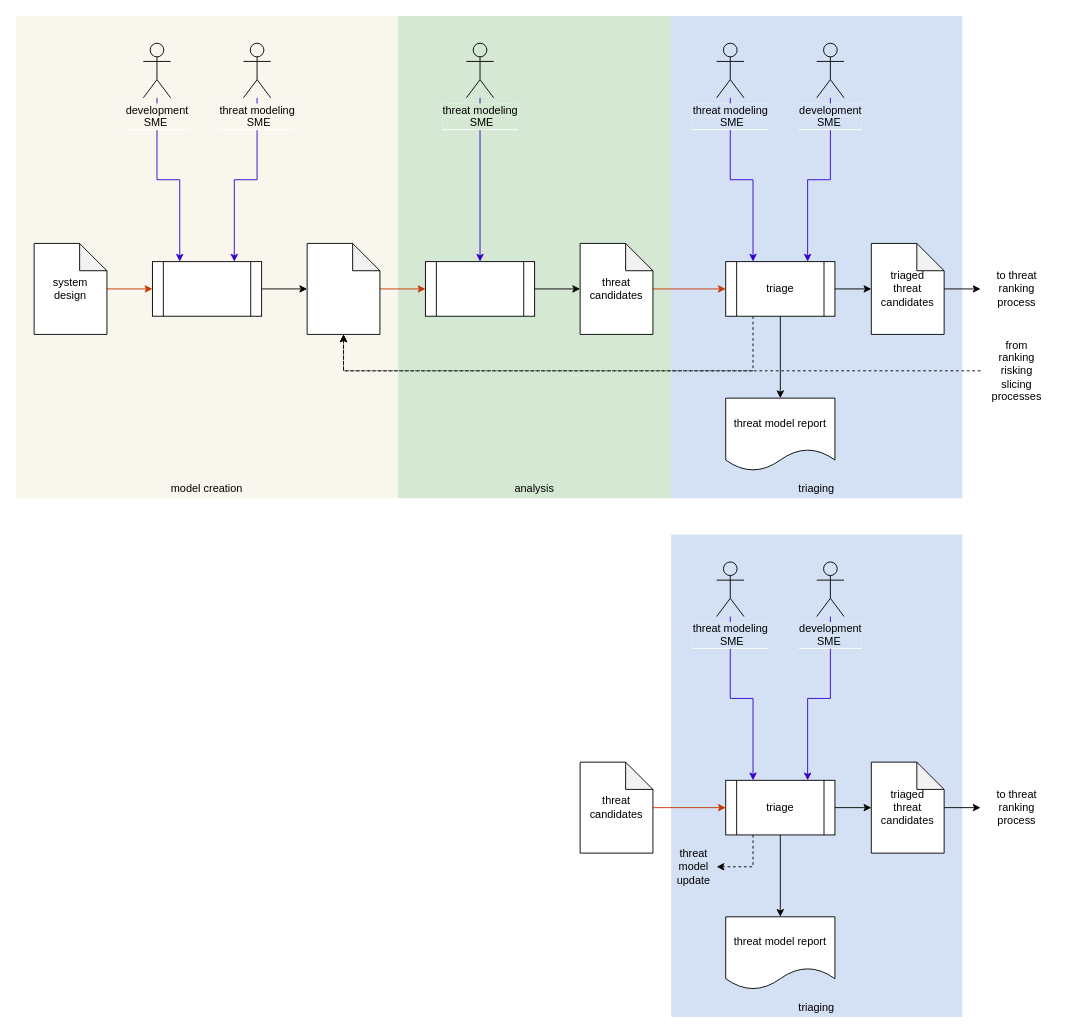
This 1068x1032 diagram has some shape labels left out. The centre of each missing label's shape, as x and y in pixels:
threat model: the point at 343,288
threat model analysis: the point at 480,288
threat model creation: the point at 207,288
